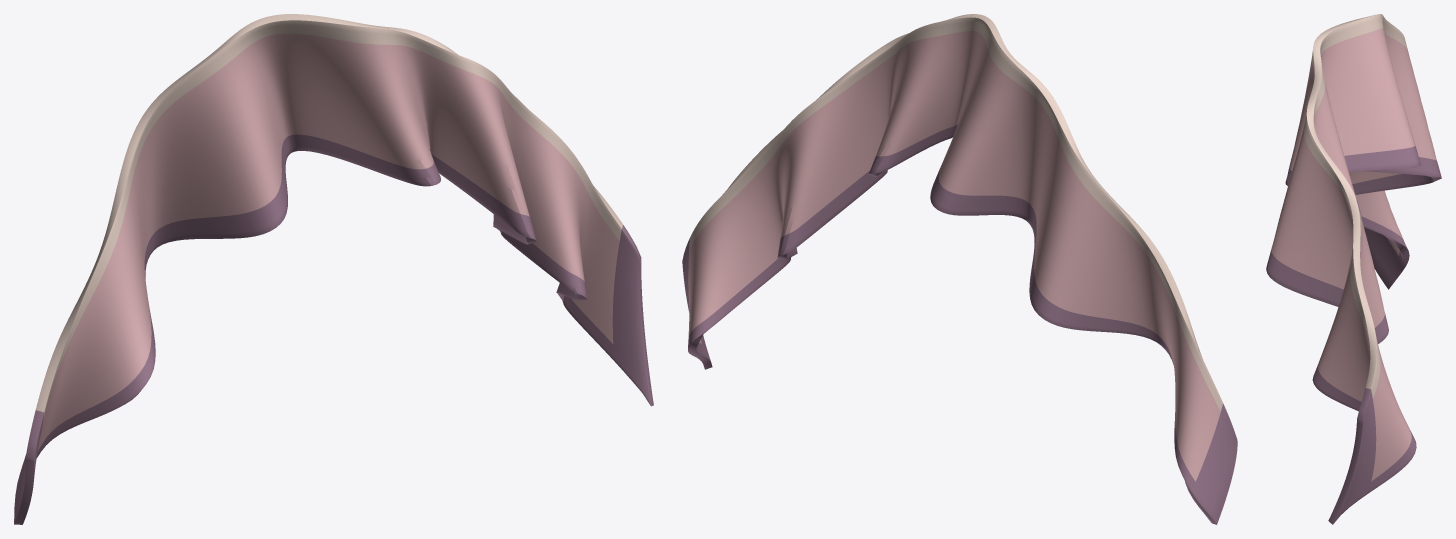
File: dusk-loom-aperture.glb
3 renders of one model, left to right at view 1: azimuth 30°, elevation 25°; view 2: azimuth 150°, elevation 25°; view 3: azimuth 270°, elevation 25°, orthographic. The views are drawn at different scales.
Parts seen in each view (by area): view 1: continuous_pleated_loom_skin; view 2: continuous_pleated_loom_skin; view 3: continuous_pleated_loom_skin.
Boxes of the visible parts, <box> form: continuous_pleated_loom_skin: <box>14,14,653,524</box>; continuous_pleated_loom_skin: <box>682,14,1237,524</box>; continuous_pleated_loom_skin: <box>1266,14,1441,524</box>.
Bounding box in the file's own units: 205 × 147 × 62.99.
